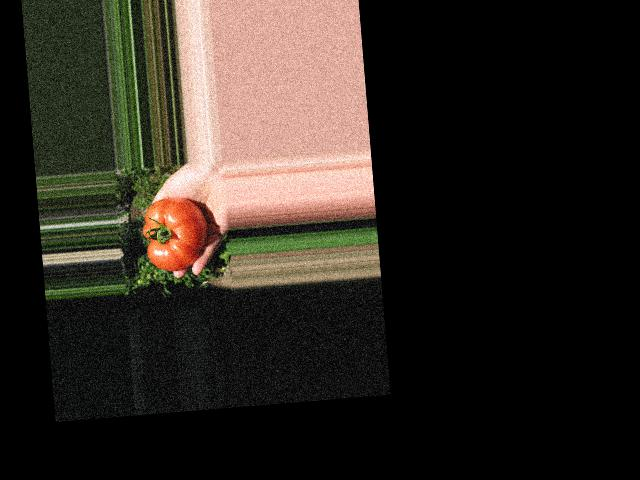tomato: (140, 195, 209, 273)
